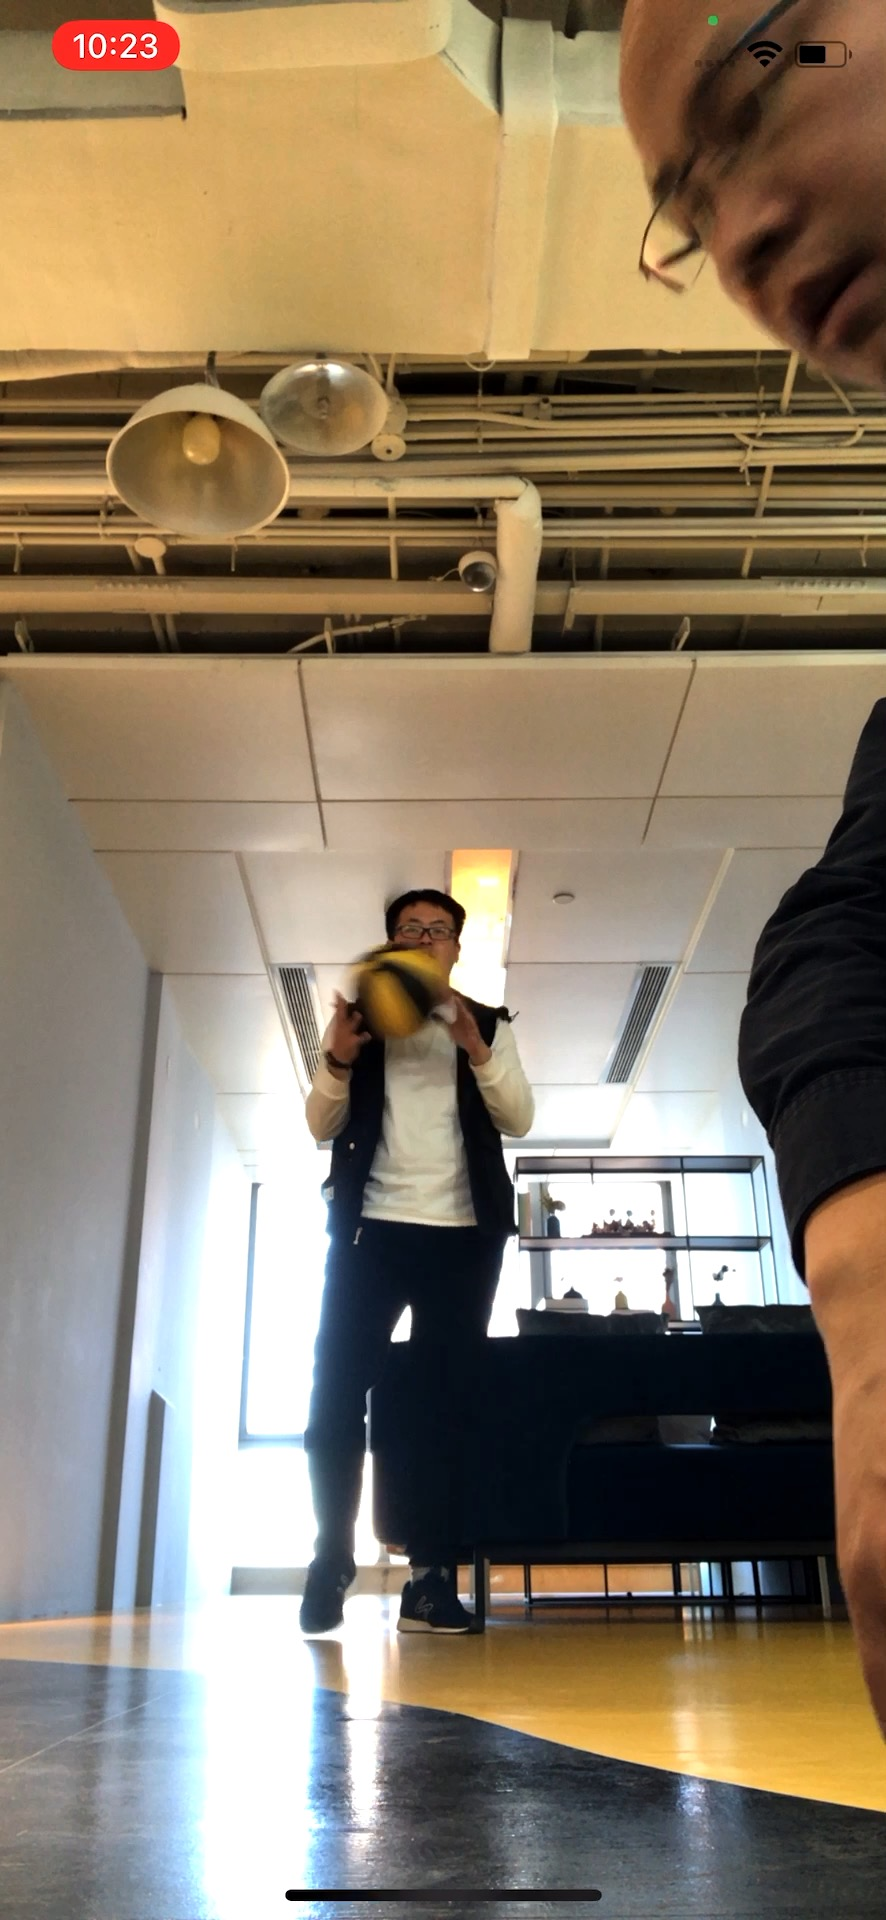ball: (349, 943, 447, 1037)
